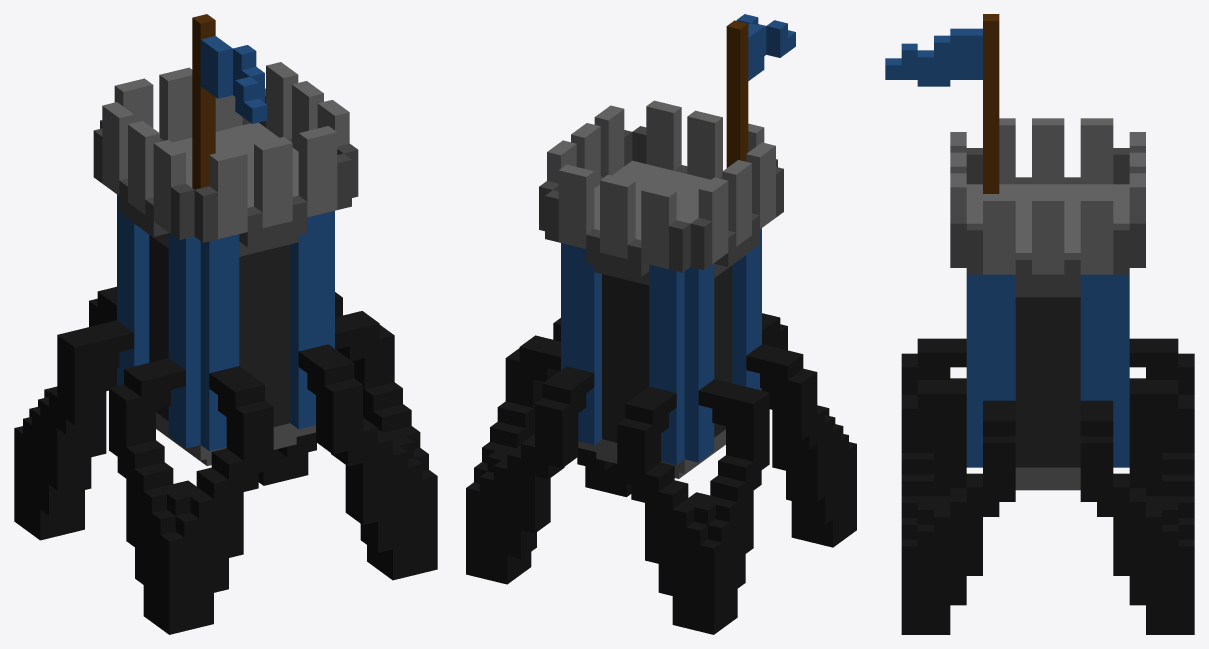
The model's file is WaterTower_01.obj.
3 views of the same model, side by side, from view 1: azimuth 30°, elevation 25°; view 2: azimuth 150°, elevation 25°; view 3: azimuth 270°, elevation 25° (orthographic). The views are drawn at different scales.
Size of the model in its own units: 18 by 36 by 19.
Materials: 1 (1 with a texture image).
